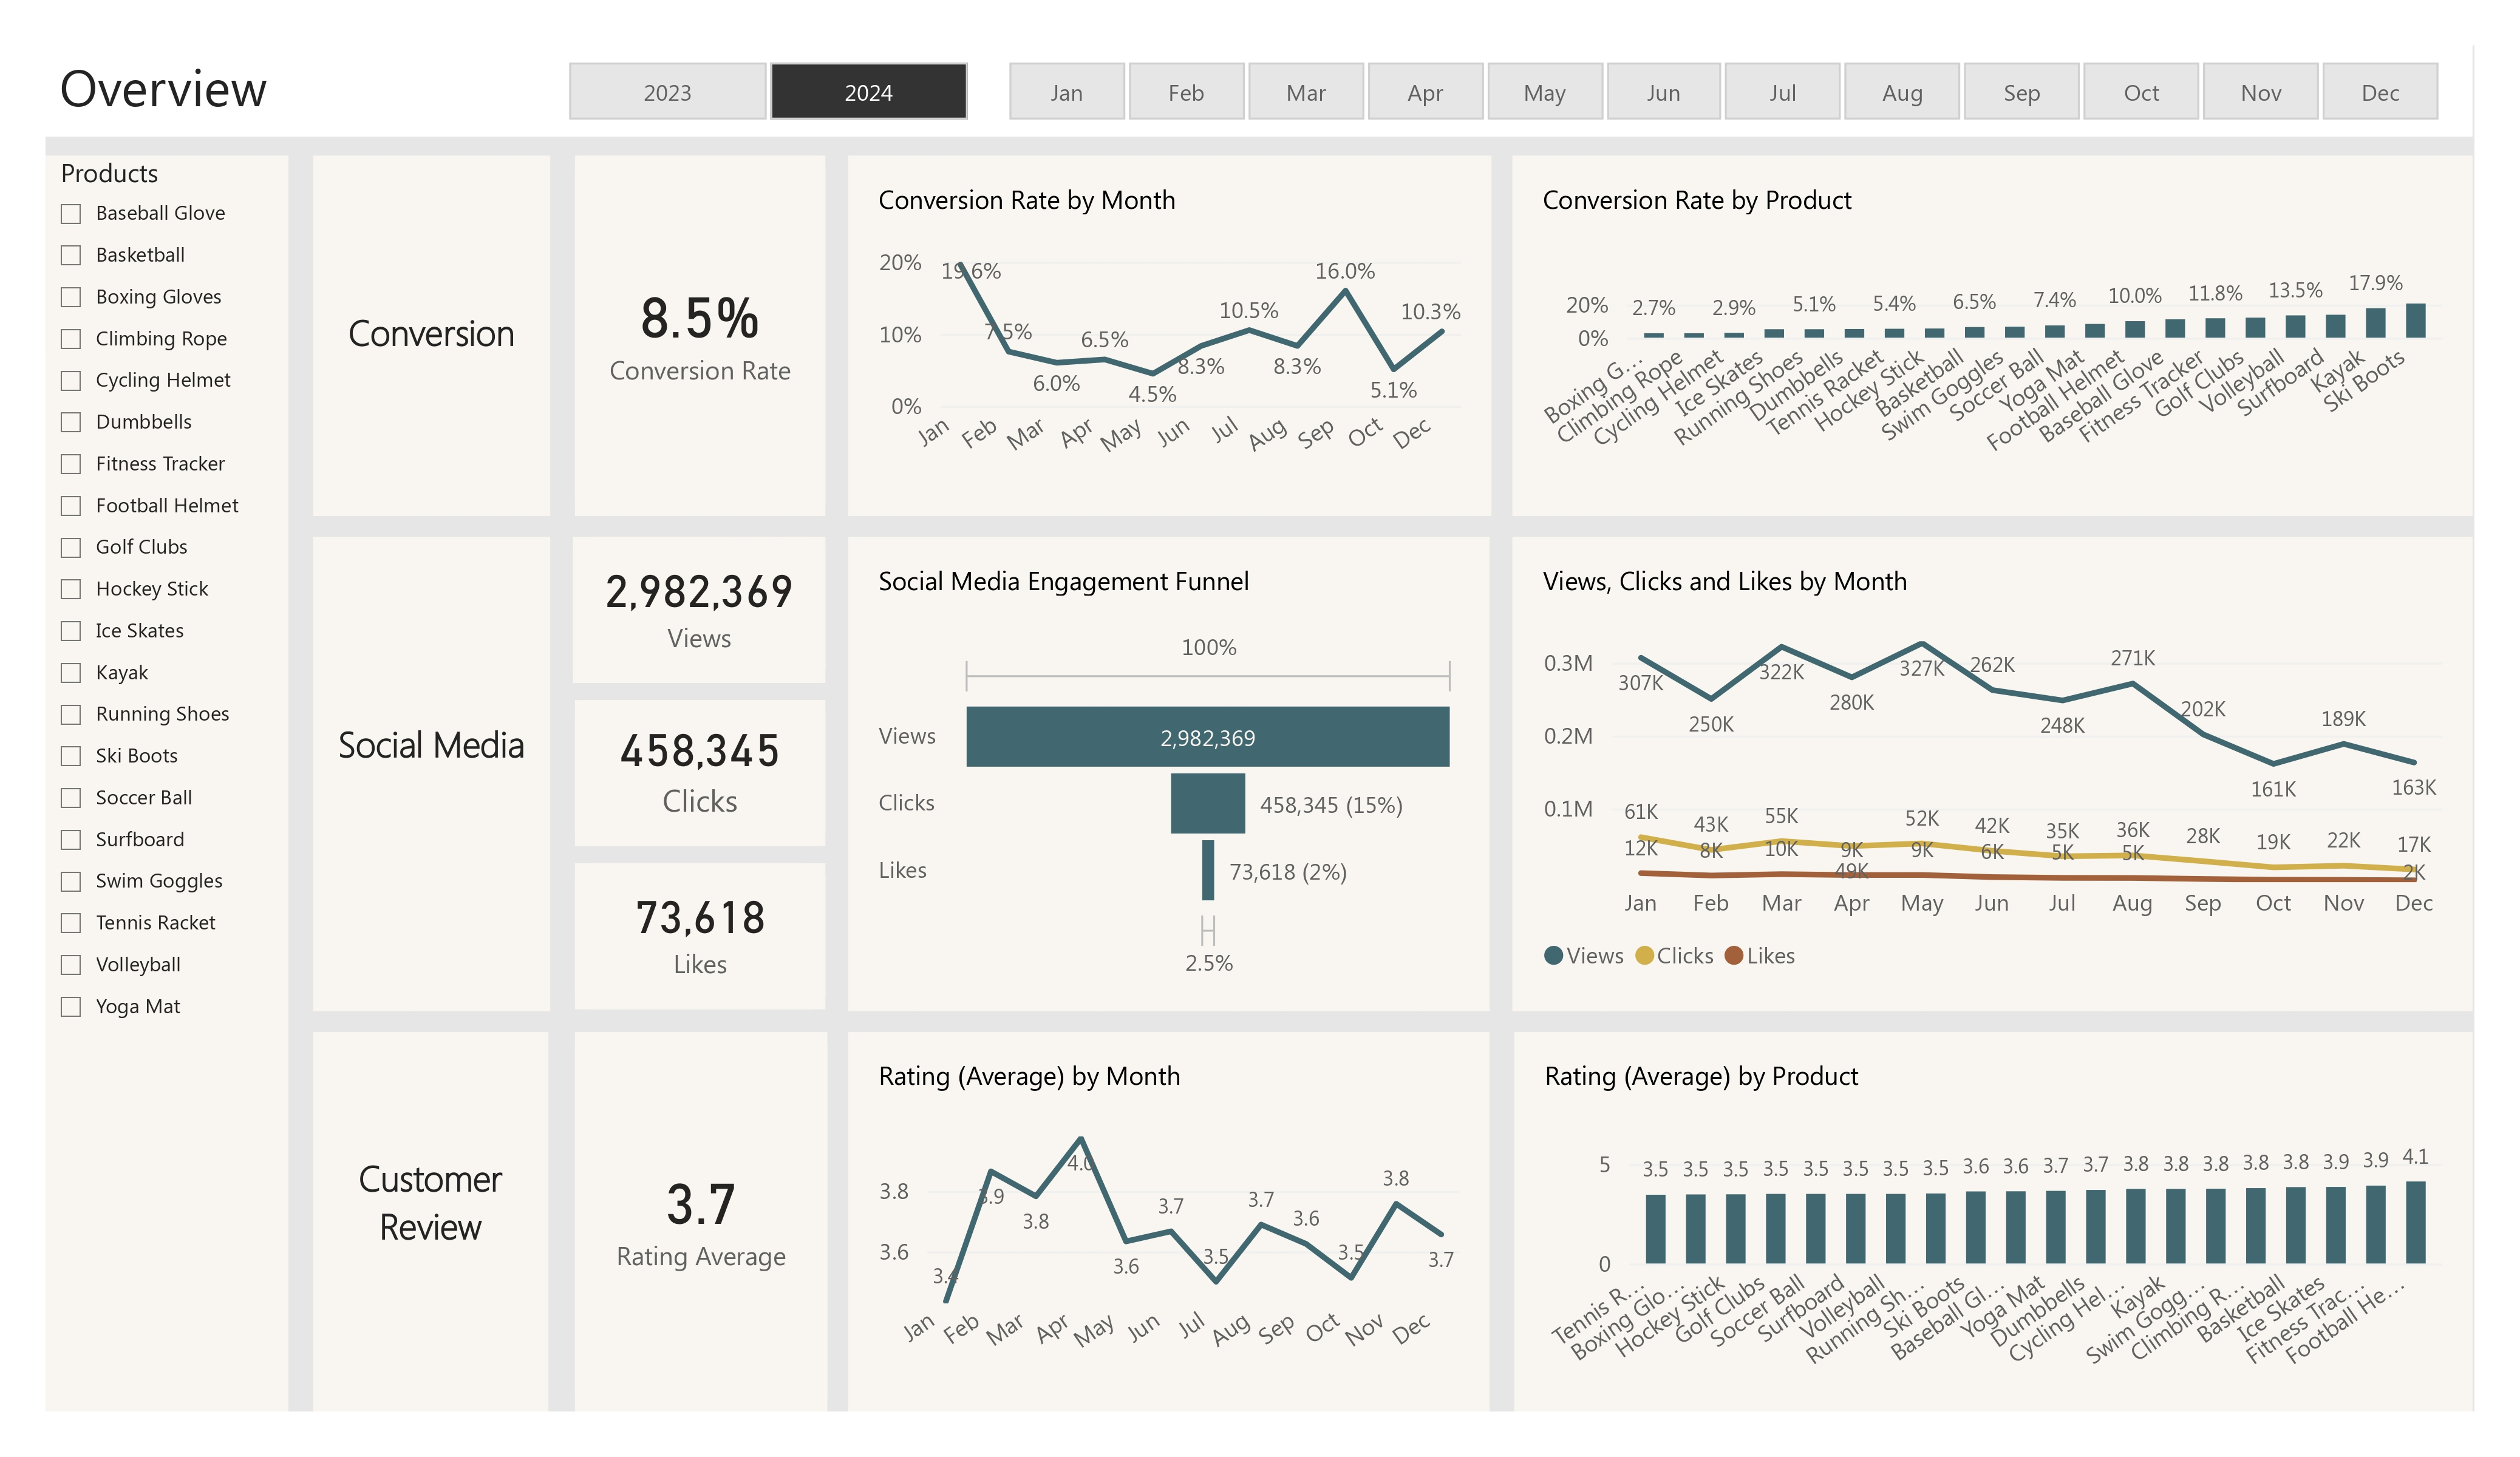

The page's visual inventory and layout, read from the dashboard file:
{"tool":"powerbi","page":{"name":"Overview","canvas":[1280,720],"ordinal":0},"visuals":[{"type":"shape","box":[0,0,1279,48],"z":0,"group":"g1"},{"type":"slicer","fields":{"Values":["dim_products.ProductName"]},"box":[0,57.5,127.5,662.5],"z":0},{"type":"textbox","box":[141,58,125,190],"z":1000},{"type":"textbox","box":[0,2.8,237.5,42.5],"z":2000,"group":"g1"},{"type":"cardVisual","fields":{"Data":["_Calculations.Conversion Rate"]},"box":[278.8,57.5,132.5,190],"z":2000},{"type":"cardVisual","fields":{"Data":["_Calculations.Views"]},"box":[277.5,258.8,133.8,77],"z":3000},{"type":"cardVisual","fields":{"Data":["_Calculations.Likes"]},"box":[278.8,431.2,132.5,77],"z":4000},{"type":"cardVisual","fields":{"Data":["_Calculations.Clicks"]},"box":[278.8,345,132.5,77],"z":5000},{"type":"cardVisual","fields":{"Data":["_Calculations.Rating Average"]},"box":[279,520,133,200],"z":6000},{"type":"lineChart","title":"Conversion Rate by Month","fields":{"Category":["Calendar.MonthNameShort"],"Y":["_Calculations.Conversion Rate"]},"box":[423.1,58.4,338.5,189.7],"z":7000},{"type":"columnChart","title":"Conversion Rate by Product","fields":{"Category":["dim_products.ProductName"],"Y":["_Calculations.Conversion Rate"]},"box":[773.3,58.4,505.8,189.7],"z":8000},{"type":"lineChart","title":"Views, Clicks and Likes by Month ","fields":{"Category":["Calendar.MonthNameShort"],"Y":["_Calculations.Views","_Calculations.Clicks","_Calculations.Likes"]},"box":[773.3,258.7,505.8,250],"z":9000},{"type":"funnel","title":"Social Media Engagement Funnel","fields":{"Y":["_Calculations.Views","_Calculations.Clicks","_Calculations.Likes"]},"box":[423,259,338,250],"z":10000},{"type":"columnChart","title":"Rating (Average) by Product ","fields":{"Category":["dim_products.ProductName"],"Y":["_Calculations.Rating Average"]},"box":[774.4,520,504.4,200],"z":11000},{"type":"textbox","box":[141,258.8,125,250],"z":12000},{"type":"textbox","box":[141,520,123.8,200],"z":13000},{"type":"slicer","fields":{"Values":["Calendar.Year"]},"box":[255,7.1,250,33.8],"z":14000,"group":"g1"},{"type":"lineChart","title":"Rating (Average) by Month","fields":{"Category":["Calendar.MonthNameShort"],"Y":["_Calculations.Rating Average"]},"box":[423,520,338,200],"z":14000},{"type":"group","id":"g1","title":"Group 1","box":[0,0,1280,48],"z":15000},{"type":"slicer","fields":{"Values":["Calendar.MonthNameShort"]},"box":[486.7,6.8,793.3,34.4],"z":15000,"group":"g1"}]}

Visuals, with their boxes on the page's 1280x720 design canvas (x1, y1, x2, y2). These are canvas units, not pixel positions in the 2520x1457 screenshot, which may show the page scaled, cropped or inside an application window:
shape: 0,0,1279,48
slicer - dim_products.ProductName: 0,58,128,720
textbox: 141,58,266,248
textbox: 0,3,238,45
cardVisual - _Calculations.Conversion Rate: 279,58,411,248
cardVisual - _Calculations.Views: 278,259,411,336
cardVisual - _Calculations.Likes: 279,431,411,508
cardVisual - _Calculations.Clicks: 279,345,411,422
cardVisual - _Calculations.Rating Average: 279,520,412,720
"Conversion Rate by Month" lineChart: 423,58,762,248
"Conversion Rate by Product" columnChart: 773,58,1279,248
"Views, Clicks and Likes by Month " lineChart: 773,259,1279,509
"Social Media Engagement Funnel" funnel: 423,259,761,509
"Rating (Average) by Product " columnChart: 774,520,1279,720
textbox: 141,259,266,509
textbox: 141,520,265,720
slicer - Calendar.Year: 255,7,505,41
"Rating (Average) by Month" lineChart: 423,520,761,720
"Group 1" group: 0,0,1280,48
slicer - Calendar.MonthNameShort: 487,7,1280,41
